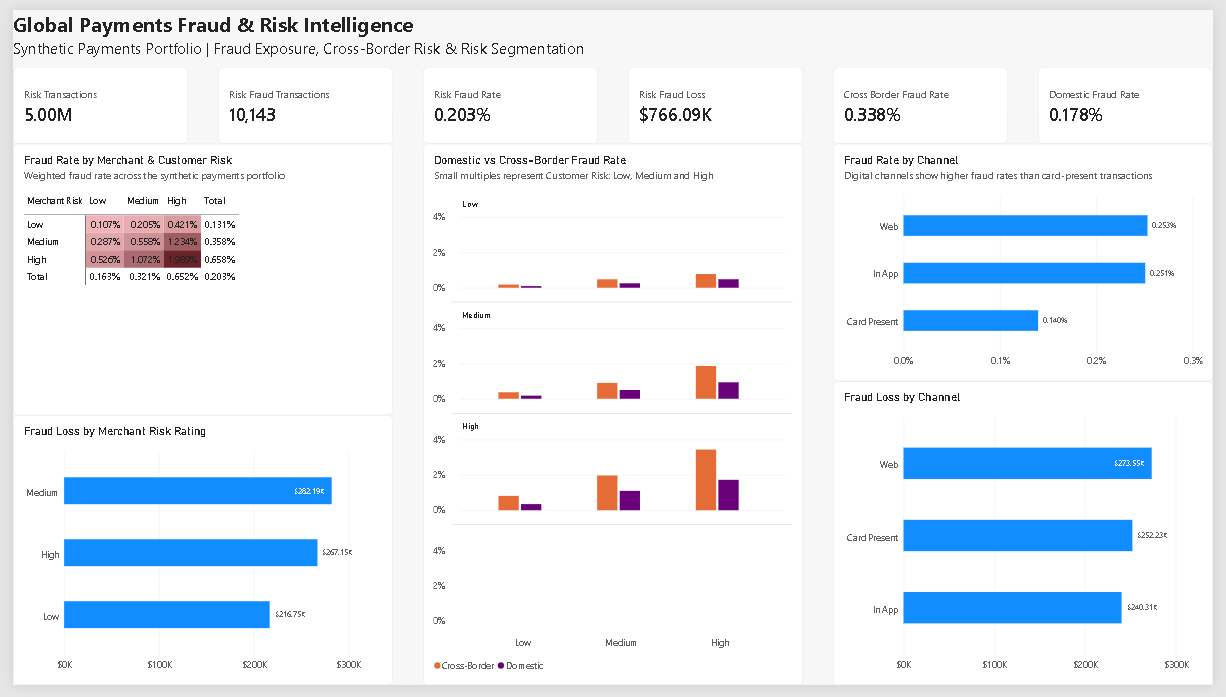

What the dashboard file says about the page in this screenshot:
{"tool":"powerbi","page":{"name":"Page 3","canvas":[1920,1080],"ordinal":2},"visuals":[{"type":"cardVisual","fields":{"Data":["KPI_Measures.Risk Transactions"]},"box":[0,92,280,122],"z":0},{"type":"cardVisual","fields":{"Data":["KPI_Measures.Risk Fraud Transactions"]},"box":[328,92,280,122],"z":1000},{"type":"cardVisual","fields":{"Data":["KPI_Measures.Risk Fraud Rate"]},"box":[656,92,280,122],"z":2000},{"type":"cardVisual","fields":{"Data":["KPI_Measures.Risk Fraud Loss"]},"box":[984,92,280,122],"z":3000},{"type":"cardVisual","fields":{"Data":["KPI_Measures.Domestic Fraud Rate"]},"box":[1640,92,280,122],"z":4000},{"type":"cardVisual","fields":{"Data":["KPI_Measures.Cross Border Fraud Rate"]},"box":[1312,92,280,122],"z":5000},{"type":"pivotTable","title":"Fraud Rate by Merchant & Customer Risk","fields":{"Columns":["vw_fraud_risk_segments.customer_risk_segment"],"Rows":["vw_fraud_risk_segments.merchant_risk_rating"],"Values":["KPI_Measures.Risk Fraud Rate"]},"box":[0,214,608,434],"z":6000},{"type":"clusteredColumnChart","title":"Domestic vs Cross-Border Fraud Rate","fields":{"Category":["vw_fraud_risk_segments.merchant_risk_rating"],"Rows":["vw_fraud_risk_segments.customer_risk_segment"],"Series":["vw_fraud_risk_segments.Cross Border Status"],"Y":["KPI_Measures.Risk Fraud Rate"]},"box":[656,214,608,866],"z":7000},{"type":"clusteredBarChart","title":"Fraud Loss by Merchant Risk Rating","fields":{"Category":["vw_fraud_risk_segments.merchant_risk_rating"],"Y":["KPI_Measures.Risk Fraud Loss"]},"box":[0,648,608,432],"z":8000},{"type":"clusteredBarChart","title":"Fraud Rate by Channel","fields":{"Category":["vw_fraud_risk_segments.Risk Channel Display"],"Y":["KPI_Measures.Risk Fraud Rate"]},"box":[1312,214,608,380],"z":9000},{"type":"clusteredBarChart","title":"Fraud Loss by Channel","fields":{"Category":["vw_fraud_risk_segments.Risk Channel Display"],"Y":["KPI_Measures.Risk Fraud Loss"]},"box":[1312,594,608,486],"z":10000},{"type":"textbox","box":[0,0,1128,144],"z":11000}]}

Visuals, with their boxes in screenshot pixels (x1, y1, x2, y2), scaled from the page's 1920x1080 canvas onto the 1226x697 screenshot:
cardVisual - KPI_Measures.Risk Transactions: (0, 59, 179, 138)
cardVisual - KPI_Measures.Risk Fraud Transactions: (209, 59, 388, 138)
cardVisual - KPI_Measures.Risk Fraud Rate: (419, 59, 598, 138)
cardVisual - KPI_Measures.Risk Fraud Loss: (628, 59, 807, 138)
cardVisual - KPI_Measures.Domestic Fraud Rate: (1047, 59, 1225, 138)
cardVisual - KPI_Measures.Cross Border Fraud Rate: (838, 59, 1017, 138)
"Fraud Rate by Merchant & Customer Risk" pivotTable: (0, 138, 388, 418)
"Domestic vs Cross-Border Fraud Rate" clusteredColumnChart: (419, 138, 807, 696)
"Fraud Loss by Merchant Risk Rating" clusteredBarChart: (0, 418, 388, 696)
"Fraud Rate by Channel" clusteredBarChart: (838, 138, 1225, 383)
"Fraud Loss by Channel" clusteredBarChart: (838, 383, 1225, 696)
textbox: (0, 0, 720, 93)
